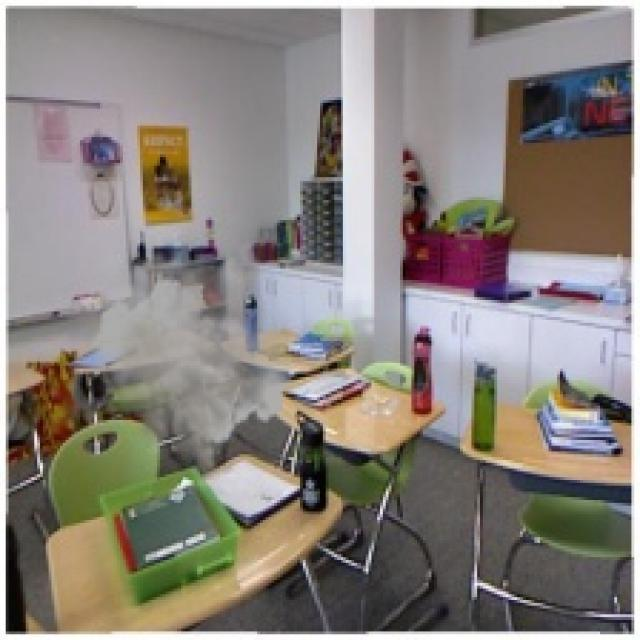Smoke: (57, 246, 297, 491)
